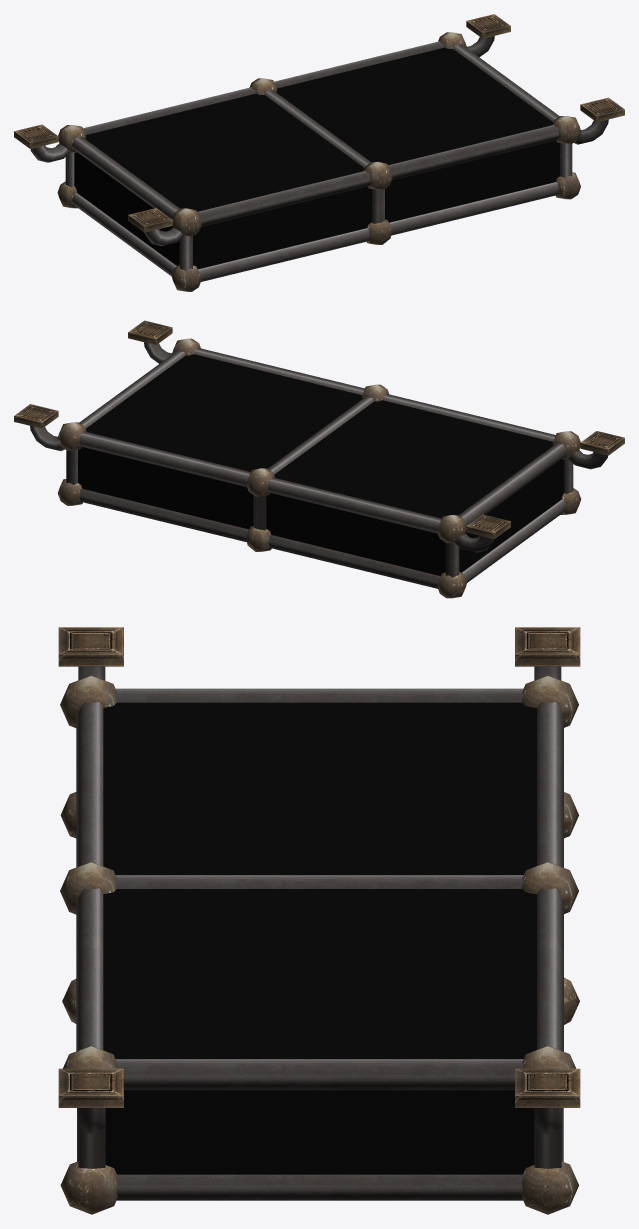
File: catwalk_factory_1m.DAE
3 views of the same model, one above another, from view 1: azimuth 30°, elevation 25°; view 2: azimuth 150°, elevation 25°; view 3: azimuth 270°, elevation 25° (orthographic). The views are drawn at different scales.
Visible parts, largest first — view 1: Plane018, Object126; view 2: Plane018, Object126; view 3: Plane018, Object126.
Part boxes in pixels (x1,y1,x2,y2): Plane018: (74, 47, 559, 269); Object126: (14, 14, 624, 291); Plane018: (78, 354, 564, 575); Object126: (14, 320, 624, 598); Plane018: (103, 702, 536, 1174); Object126: (58, 627, 580, 1214).
Bounding box in the file's own units: 2.12 × 0.3534 × 0.9992.
